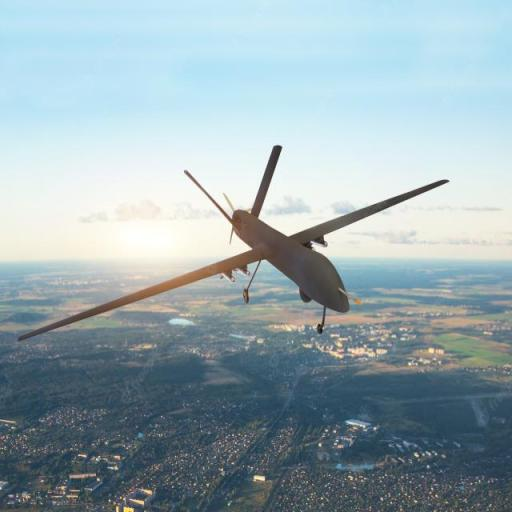uav: (15, 136, 460, 356)
